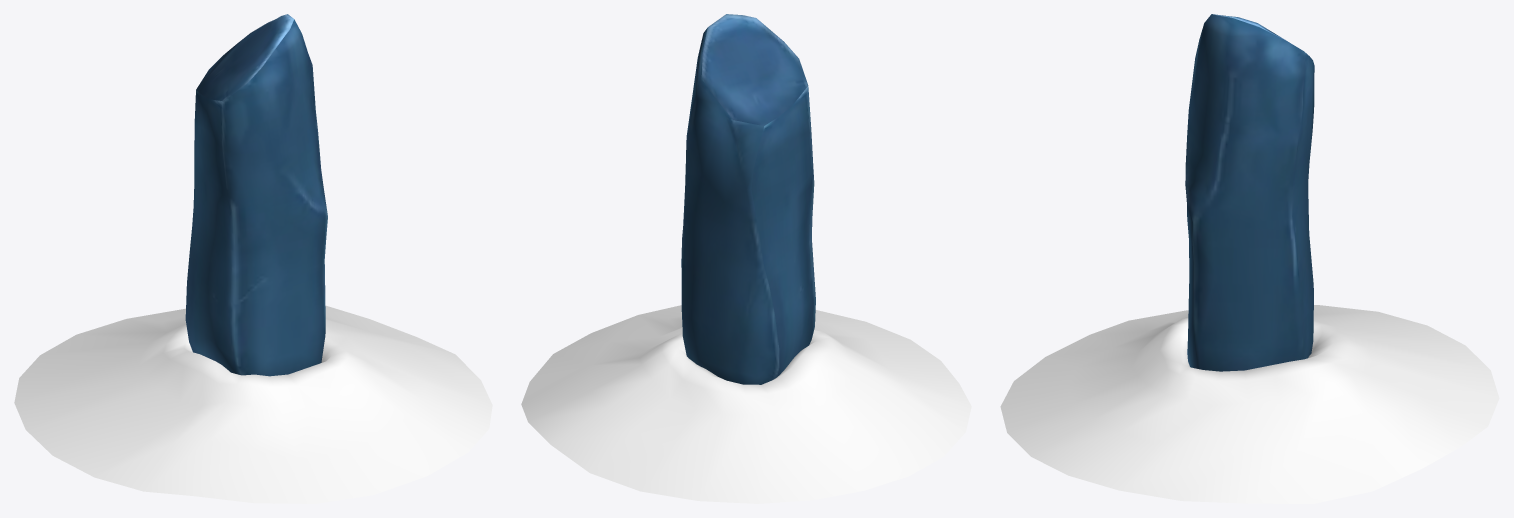
The model's file is crystal1b.glb.
3 renders of one model, left to right at view 1: azimuth 30°, elevation 25°; view 2: azimuth 150°, elevation 25°; view 3: azimuth 270°, elevation 25°, orthographic. The views are drawn at different scales.
Parts seen in each view (by area): view 1: crystalbase, crystal1b_LOD0; view 2: crystalbase, crystal1b_LOD0; view 3: crystalbase, crystal1b_LOD0.
Part boxes in pixels (<box>): crystalbase: <box>14,305,492,503</box>; crystal1b_LOD0: <box>185,14,327,376</box>; crystalbase: <box>521,305,971,503</box>; crystal1b_LOD0: <box>681,14,815,384</box>; crystalbase: <box>1000,305,1499,503</box>; crystal1b_LOD0: <box>1185,14,1314,371</box>.
Size of the model in its own units: 2.81 by 2.6 by 2.9.
2 materials, 1 textured.
